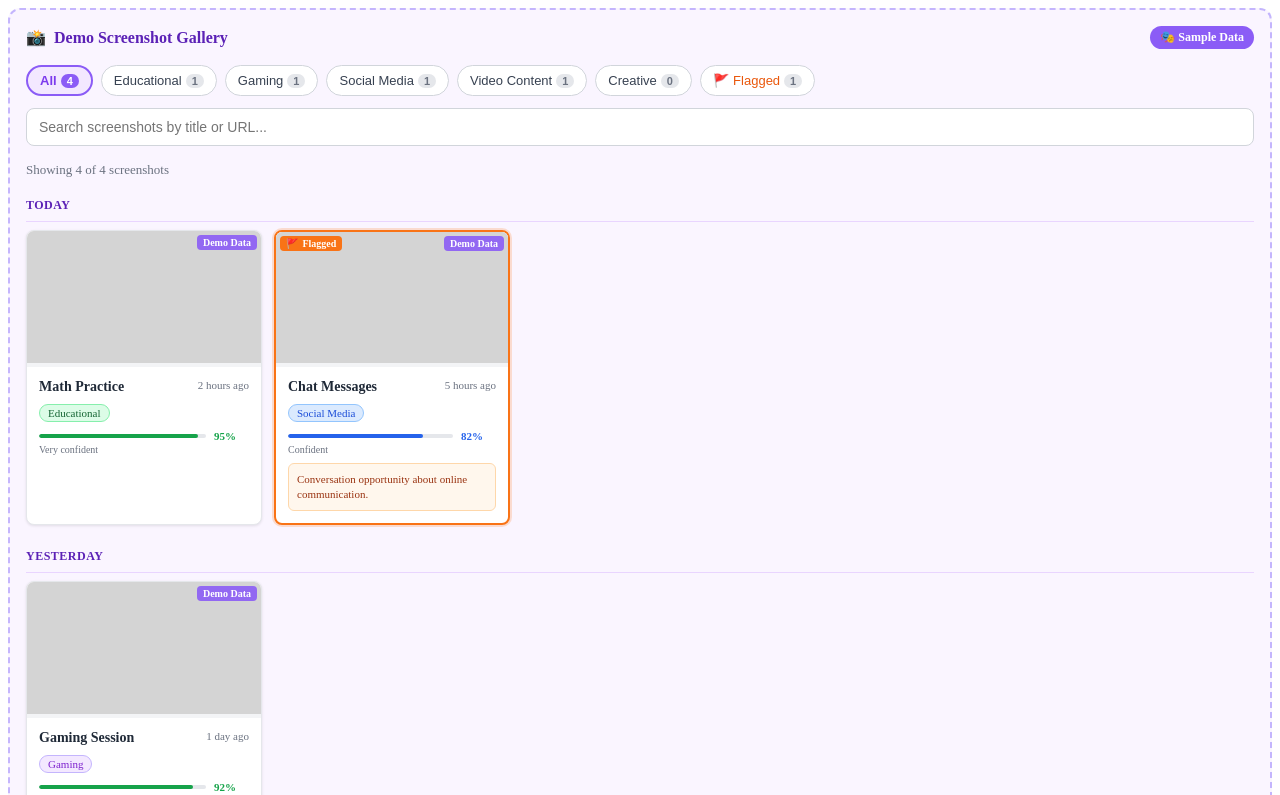
it: DemoScreenshotGallery (Story 8.5.2) › AC6: Search functionality › should filter by title search
In the field with test id "search-input": [640, 127] box [26,108,1254,146], type "math"
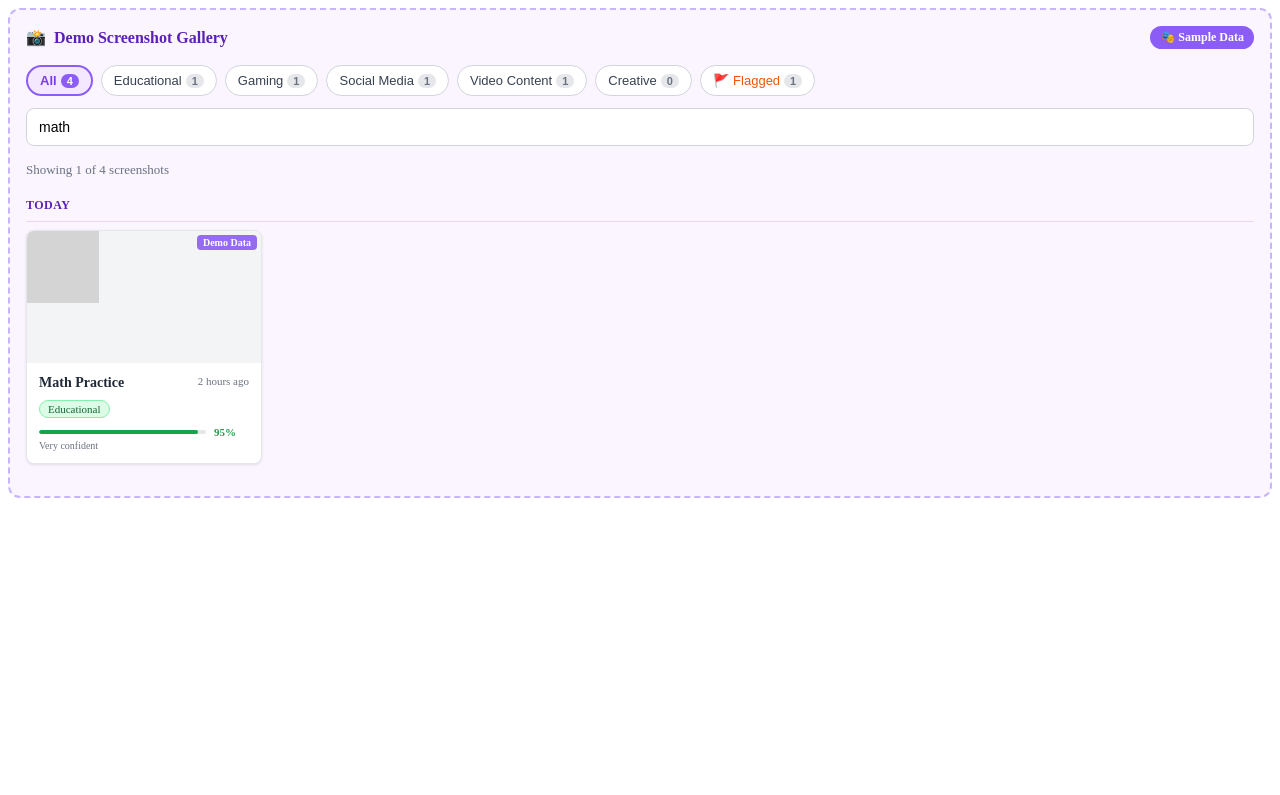
Expected: the text with test id "results-count" shows "Showing 1 of 4", [26,162,169,177]
